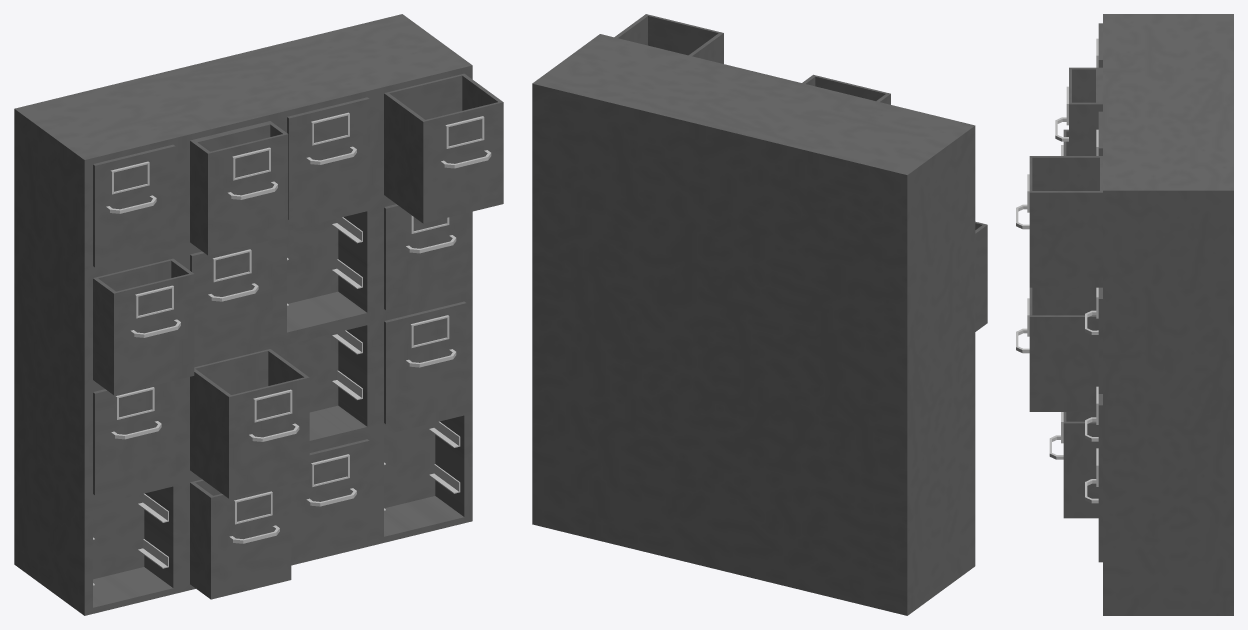
File: IronCaseMissedBoxes.fbx
The picture shows the model from 3 angles, left to right: view 1: azimuth 30°, elevation 25°; view 2: azimuth 150°, elevation 25°; view 3: azimuth 270°, elevation 25°; orthographic projection. The views are drawn at different scales.
Parts seen in each view (by area): view 1: Cube.115; view 2: Cube.115; view 3: Cube.115.
Boxes of the visible parts, x1,y1,x2,y2 form: Cube.115: (14, 14, 503, 615); Cube.115: (532, 14, 987, 615); Cube.115: (1016, 14, 1233, 615).
Size of the model in its own units: 330 by 370 by 172.
